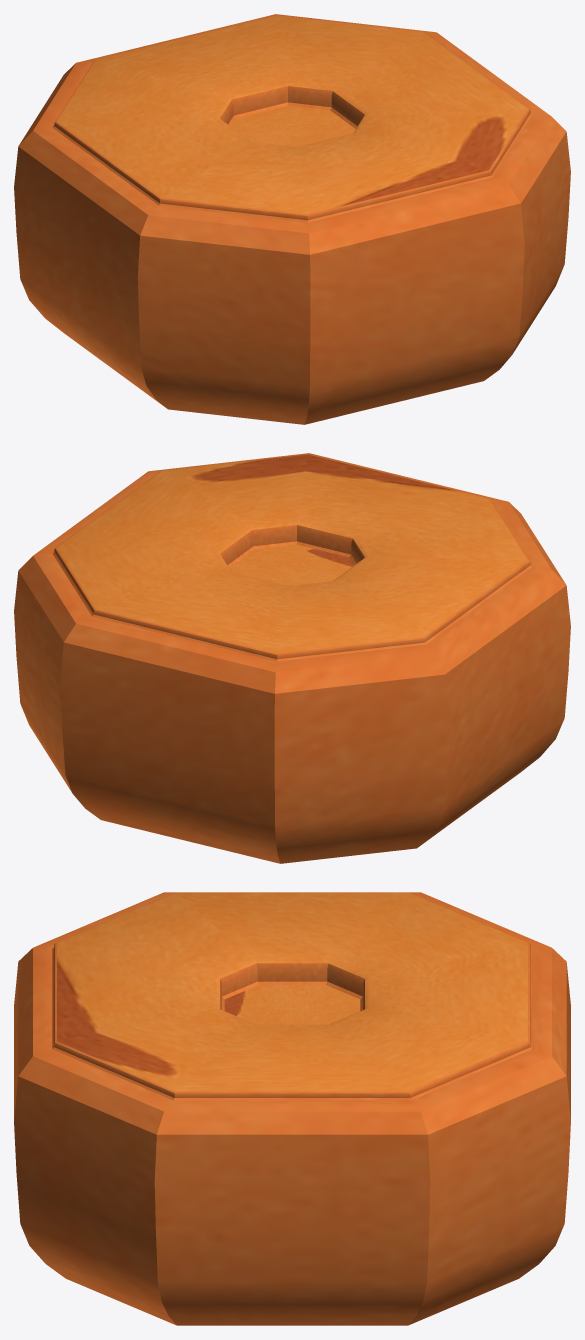
File: CenouraPataB.fbx
3 renders of one model, top to bottom at view 1: azimuth 30°, elevation 25°; view 2: azimuth 150°, elevation 25°; view 3: azimuth 270°, elevation 25°, orthographic. The views are drawn at different scales.
Parts seen in each view (by area): view 1: PatasB; view 2: PatasB; view 3: PatasB.
Part boxes in pixels (left/top/right/bottom): PatasB: left=14, top=14, right=570, bottom=424; PatasB: left=14, top=453, right=570, bottom=863; PatasB: left=14, top=892, right=570, bottom=1325.
Size of the model in its own units: 6.1 by 2.92 by 6.1.
